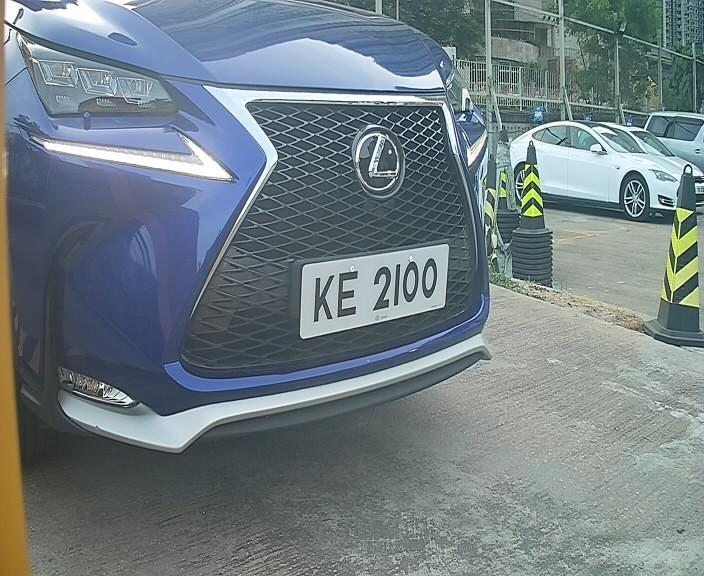License Plate: (296, 240, 447, 343)
